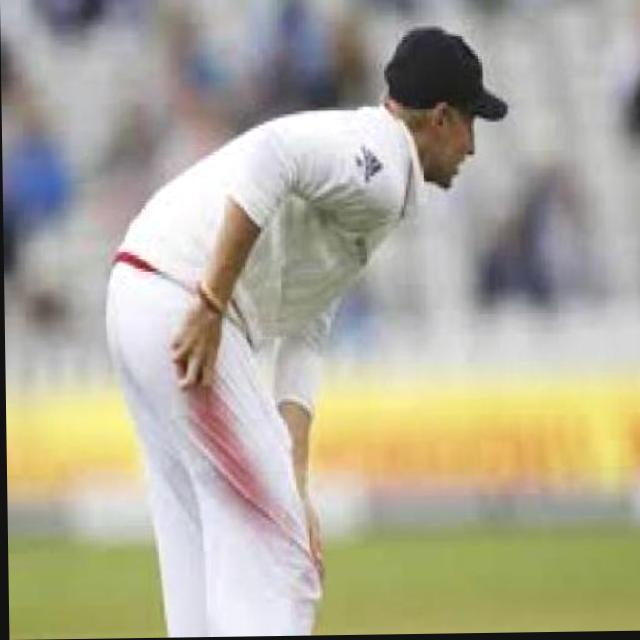-: (170, 327, 205, 416)
